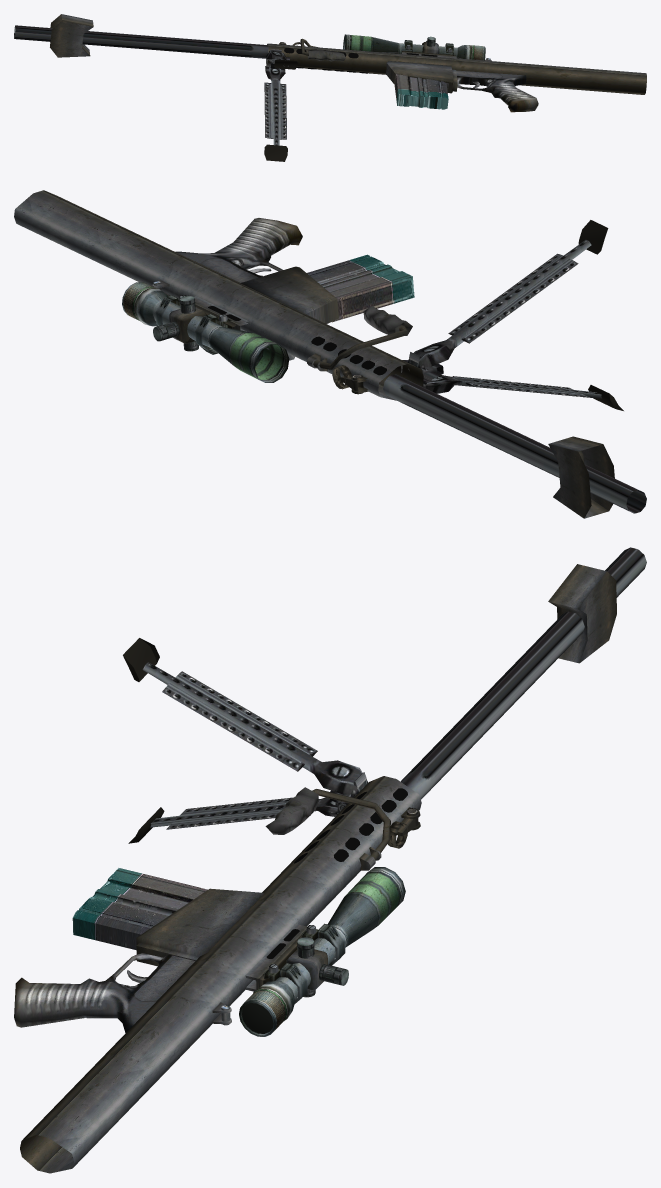
3 renders of one model, top to bottom at view 1: azimuth 30°, elevation 25°; view 2: azimuth 150°, elevation 25°; view 3: azimuth 270°, elevation 25°, orthographic. The views are drawn at different scales.
Visible parts, largest first — view 1: _m82_1st; view 2: _m82_1st; view 3: _m82_1st.
Boxes of the visible parts, x1,y1,x2,y2 form: _m82_1st: (14,14,646,161); _m82_1st: (14,190,646,518); _m82_1st: (14,547,646,1173).
Size of the model in its own units: 1.4 by 0.2752 by 0.7801.
Materials: 2 (2 with a texture image).
